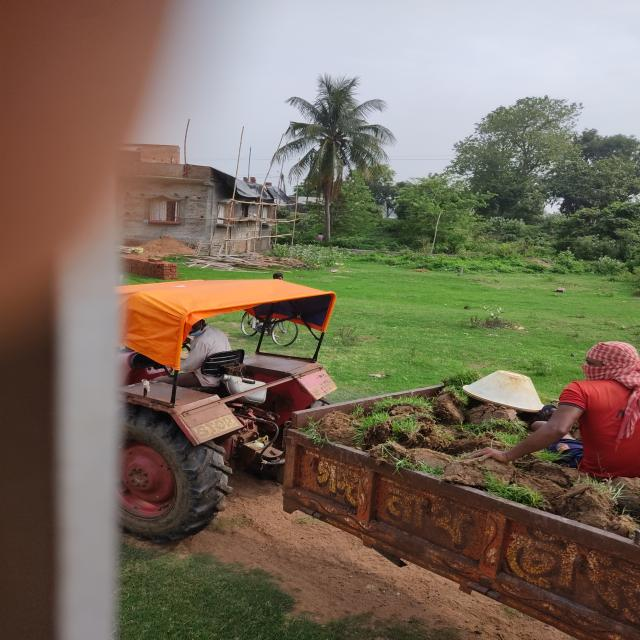tractor: (263, 312, 640, 634), (52, 271, 351, 551)
